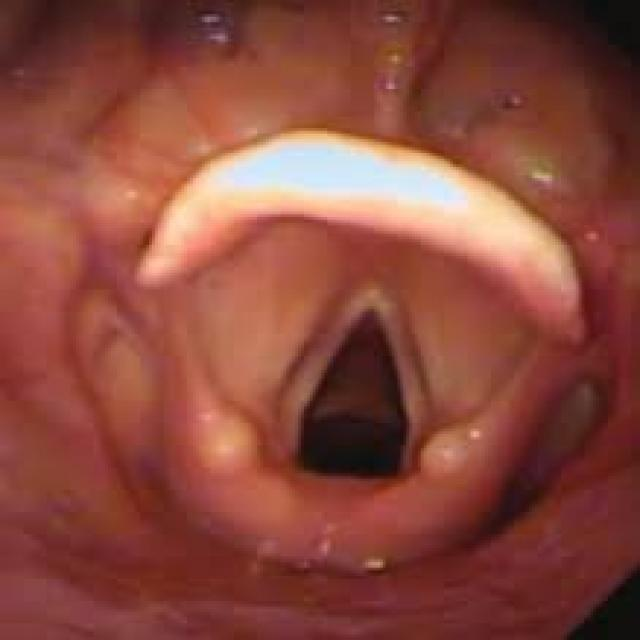arytenoid cartilagerotation: (173, 396, 519, 558)
epiglottisrotation: (130, 122, 589, 348)
larynxrotation: (270, 278, 426, 483)
